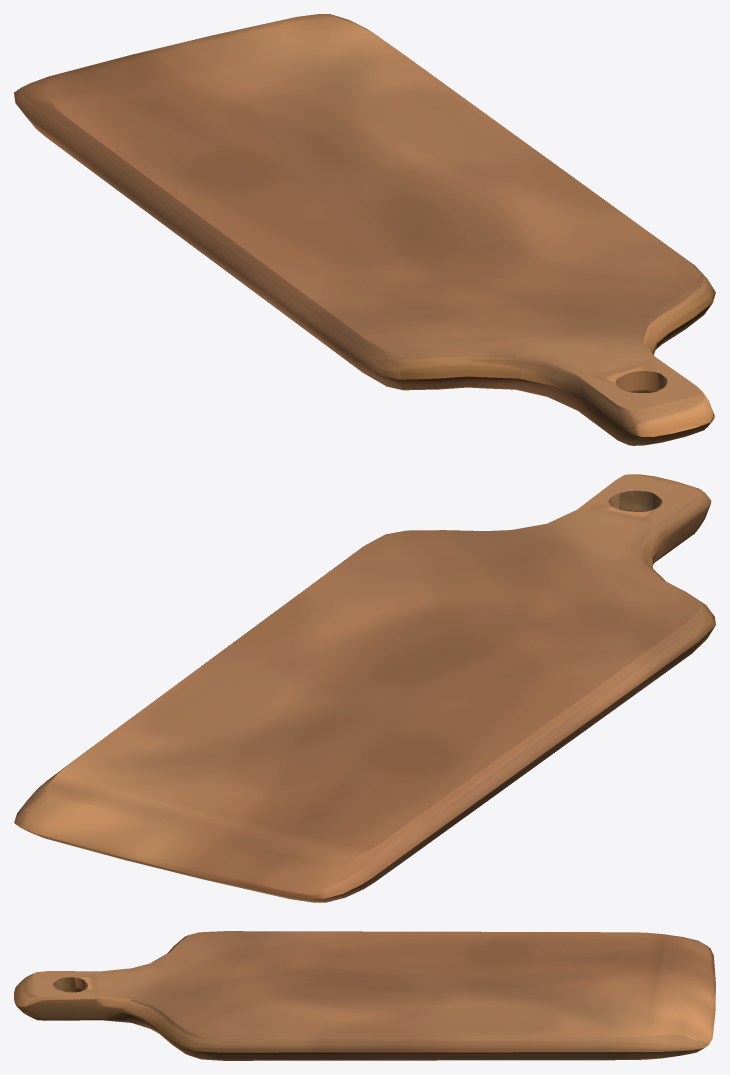
The model's file is Cutting board 3D model.fbx.
3 views of the same model, one above another, from view 1: azimuth 30°, elevation 25°; view 2: azimuth 150°, elevation 25°; view 3: azimuth 270°, elevation 25° (orthographic). The views are drawn at different scales.
Visible parts, largest first — view 1: Plane; view 2: Plane; view 3: Plane.
Boxes of the visible parts, x1,y1,x2,y2 form: Plane: (14, 14, 715, 445); Plane: (14, 474, 715, 902); Plane: (14, 931, 715, 1060).
Size of the model in its own units: 140 by 13.6 by 366.
Materials: 1 (1 with a texture image).
